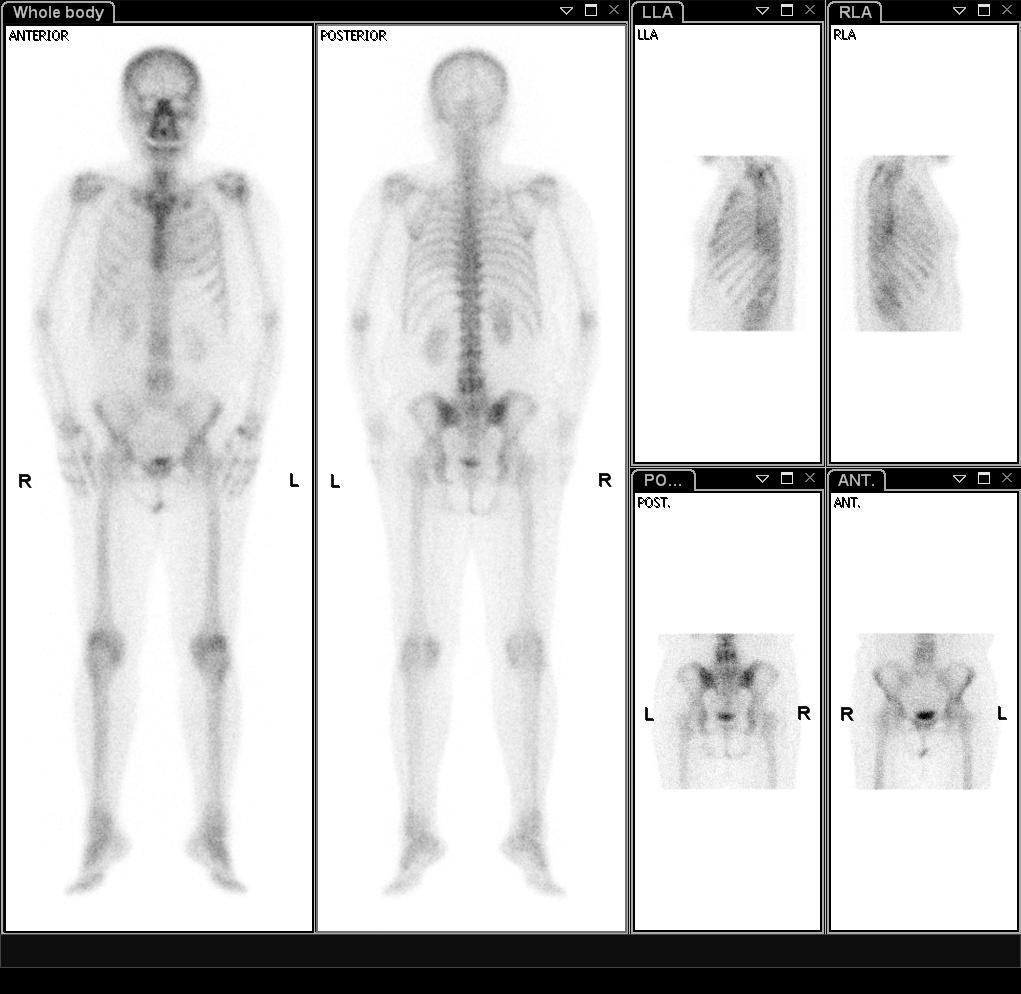person: (3, 23, 626, 933)
